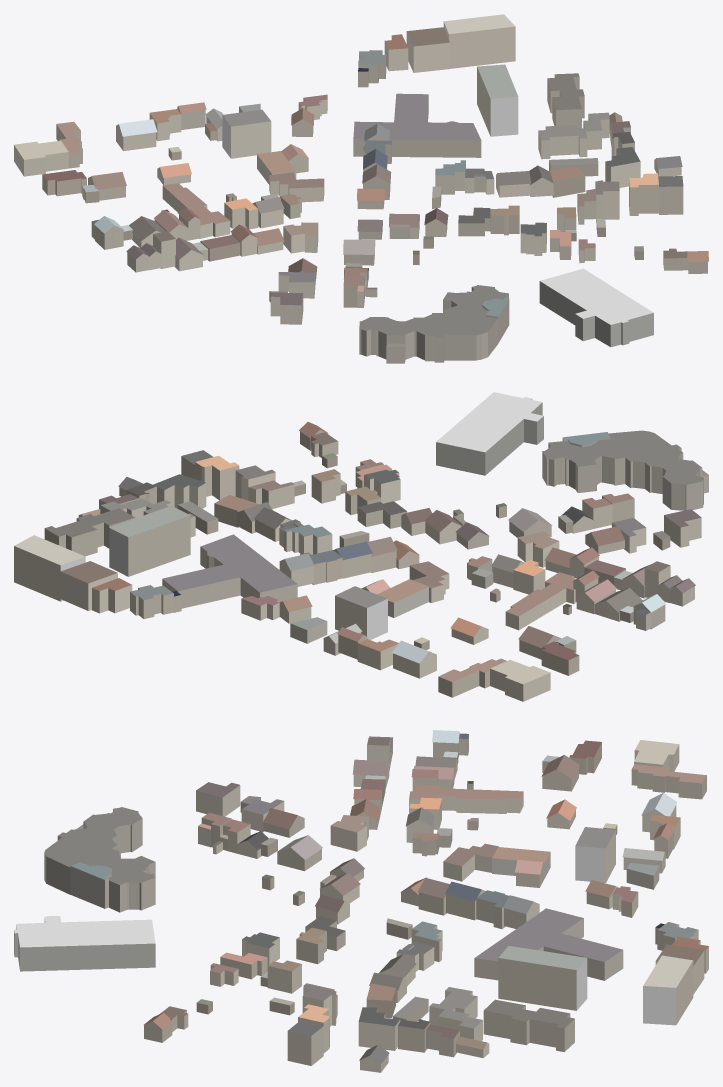
3 renders of one model, top to bottom at view 1: azimuth 30°, elevation 25°; view 2: azimuth 150°, elevation 25°; view 3: azimuth 270°, elevation 25°, orthographic. The views are drawn at different scales.
Visible parts, largest first — view 1: tuile; view 2: tuile; view 3: tuile.
Part boxes in pixels (left/top/right/bottom): tuile: left=14, top=14, right=708, bottom=363; tuile: left=14, top=392, right=708, bottom=701; tuile: left=14, top=730, right=708, bottom=1072.
Bounding box in the file's own units: 257 × 30.48 × 261.
